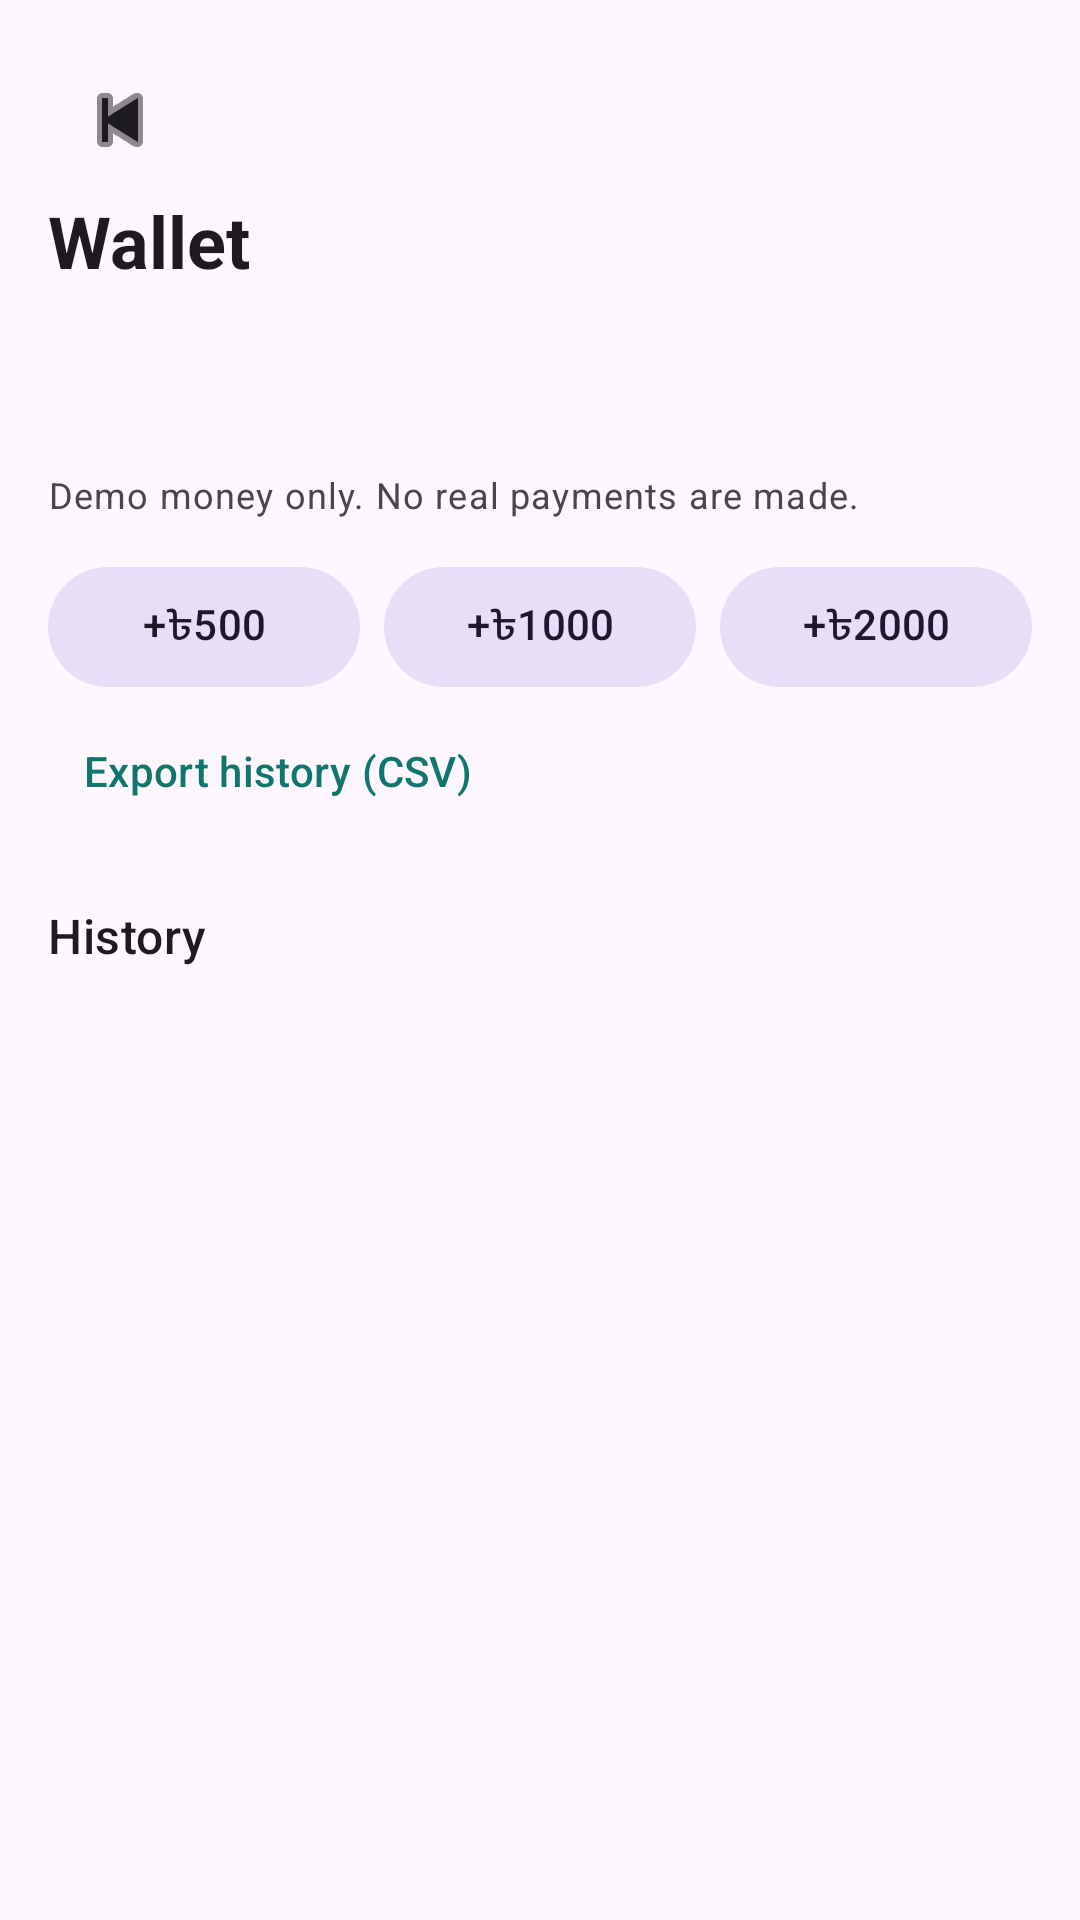

Icons on this 1080*1920 Android screen, each with its box as Rect(x1, y1, x2, y2):
Back: Rect(97, 93, 143, 147)
